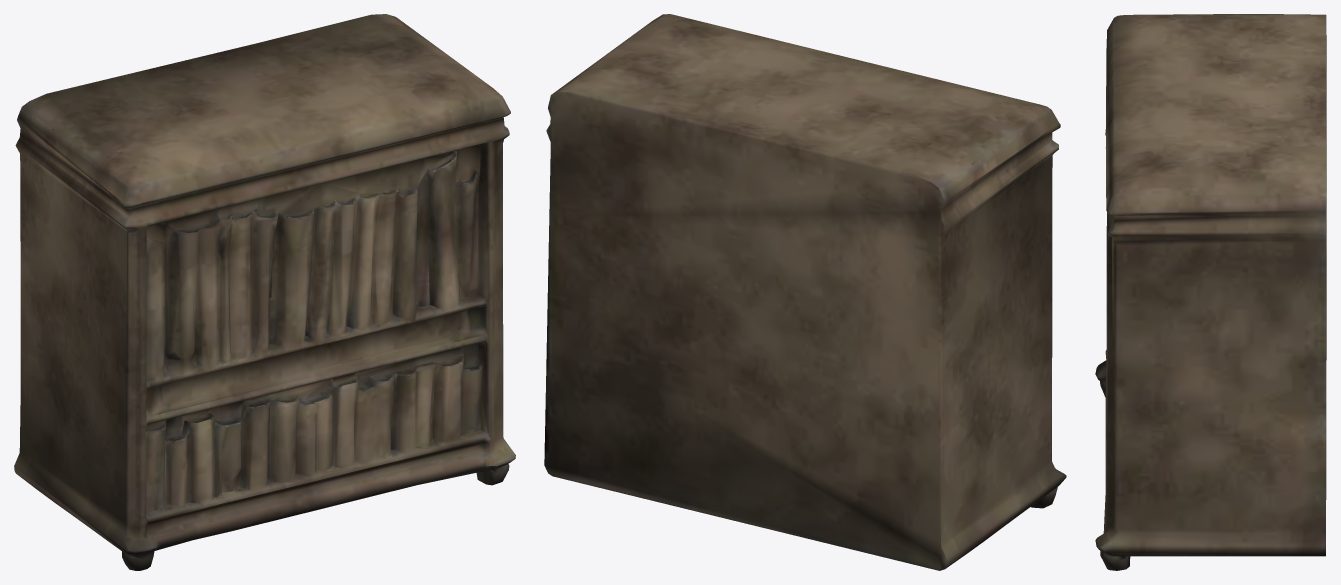
The model's file is ancient-wood-bookcase-v002.glb.
3 views of the same model, side by side, from view 1: azimuth 30°, elevation 25°; view 2: azimuth 150°, elevation 25°; view 3: azimuth 270°, elevation 25° (orthographic). The views are drawn at different scales.
Visible parts, largest first — view 1: ancient-wood-bookcase; view 2: ancient-wood-bookcase; view 3: ancient-wood-bookcase.
Boxes of the visible parts, x1,y1,x2,y2 form: ancient-wood-bookcase: [14, 14, 515, 570]; ancient-wood-bookcase: [544, 14, 1066, 570]; ancient-wood-bookcase: [1095, 14, 1326, 570].
Size of the model in its own units: 2.38 by 2.29 by 1.24.
Materials: 1 (1 with a texture image).
